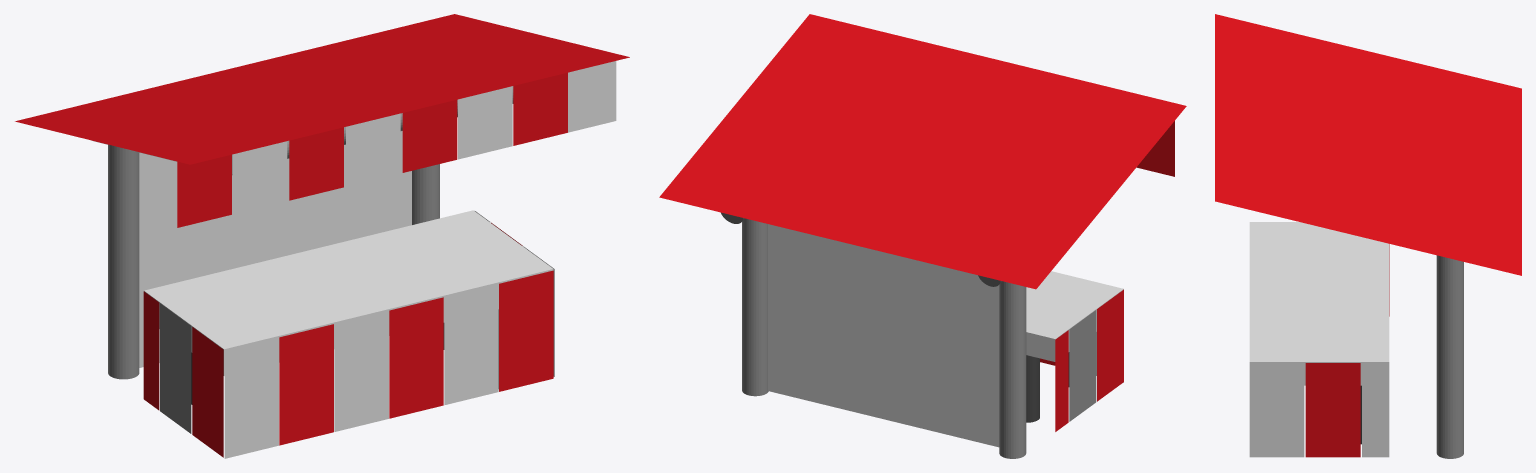
File: 屋台赤.fbx
The picture shows the model from 3 angles, left to right: view 1: azimuth 30°, elevation 25°; view 2: azimuth 150°, elevation 25°; view 3: azimuth 270°, elevation 25°; orthographic projection. The views are drawn at different scales.
Visible parts, largest first — view 1: 平面.002, 立方体, 平面.001, 円柱.001, 平面.017, 平面.003, 平面.016, 平面.018, 平面.019, 平面.015, 平面.023, 平面.022 (+10 smaller); view 2: 平面.002, 平面.001, 円柱.001, 立方体, 円柱, 平面.022, 平面.023, 平面.006, 平面.013, 円柱.007; view 3: 平面.002, 立方体, 円柱, 平面.020, 平面.005, 平面.021.
Part boxes in pixels (<box>): 平面.002: <box>15,14,629,164</box>; 立方体: <box>144,210,553,375</box>; 平面.001: <box>139,131,411,367</box>; 円柱.001: <box>108,144,139,379</box>; 平面.017: <box>499,270,553,391</box>; 平面.003: <box>389,297,443,418</box>; 平面.016: <box>334,310,388,431</box>; 平面.018: <box>279,324,333,445</box>; 平面.019: <box>224,337,278,458</box>; 平面.015: <box>444,284,498,405</box>; 平面.023: <box>192,327,223,457</box>; 平面.022: <box>160,303,191,433</box>; 平面.002: <box>659,14,1186,289</box>; 平面.001: <box>768,224,999,447</box>; 円柱.001: <box>999,281,1026,458</box>; 立方体: <box>1026,271,1123,361</box>; 円柱: <box>742,218,768,396</box>; 平面.022: <box>1069,310,1096,421</box>; 平面.023: <box>1097,289,1123,401</box>; 平面.006: <box>1055,330,1068,431</box>; 平面.013: <box>1136,121,1174,176</box>; 円柱.007: <box>1026,355,1039,422</box>; 平面.002: <box>1215,14,1521,275</box>; 立方体: <box>1249,222,1389,385</box>; 円柱: <box>1436,255,1463,458</box>; 平面.020: <box>1305,363,1360,457</box>; 平面.005: <box>1249,363,1304,457</box>; 平面.021: <box>1362,363,1389,457</box>.
Bounding box in the file's own units: 810 × 568 × 560.
